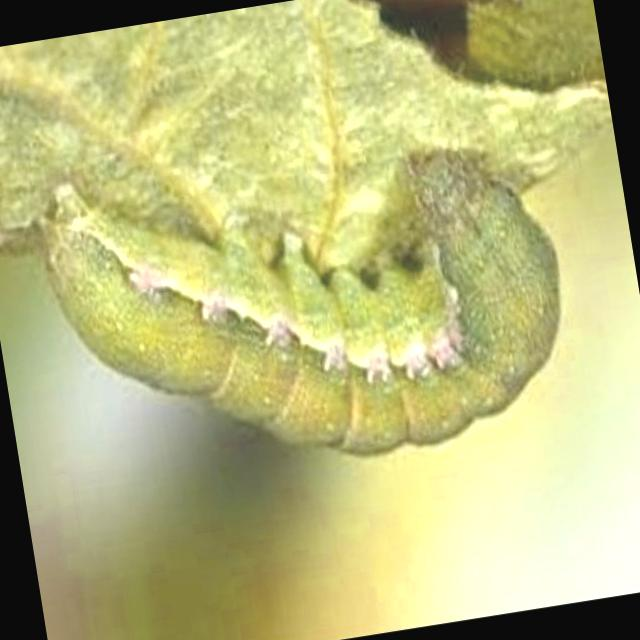Beet armyworm: (0, 68, 624, 539)
